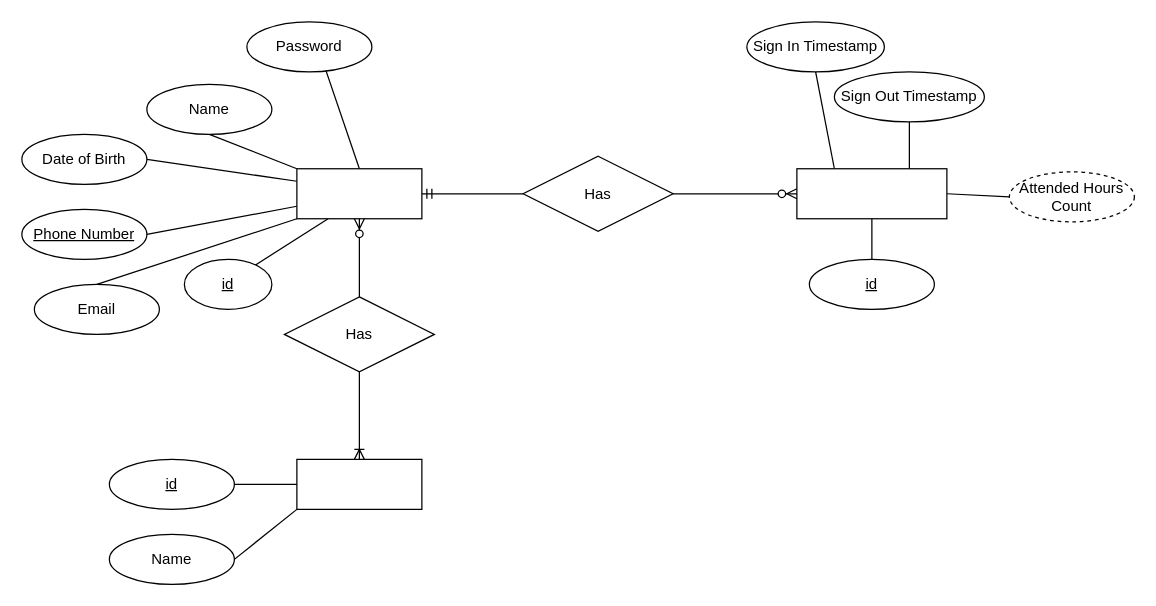
Image size: 1156x606. Some labels were removed from this diagram. The centre of each missing label's shape, as x and y in pixels:
Attendance Record: point (871, 193)
Role: point (359, 483)
User: point (359, 193)
